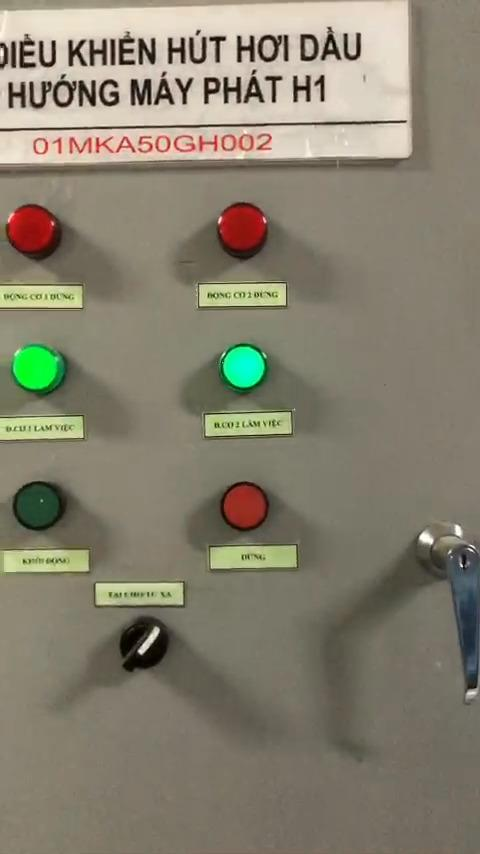led: (3, 200, 64, 260), (6, 341, 69, 397), (217, 201, 273, 256), (217, 340, 273, 395), (14, 478, 68, 534), (218, 480, 273, 532)
twist: (108, 614, 173, 673)
